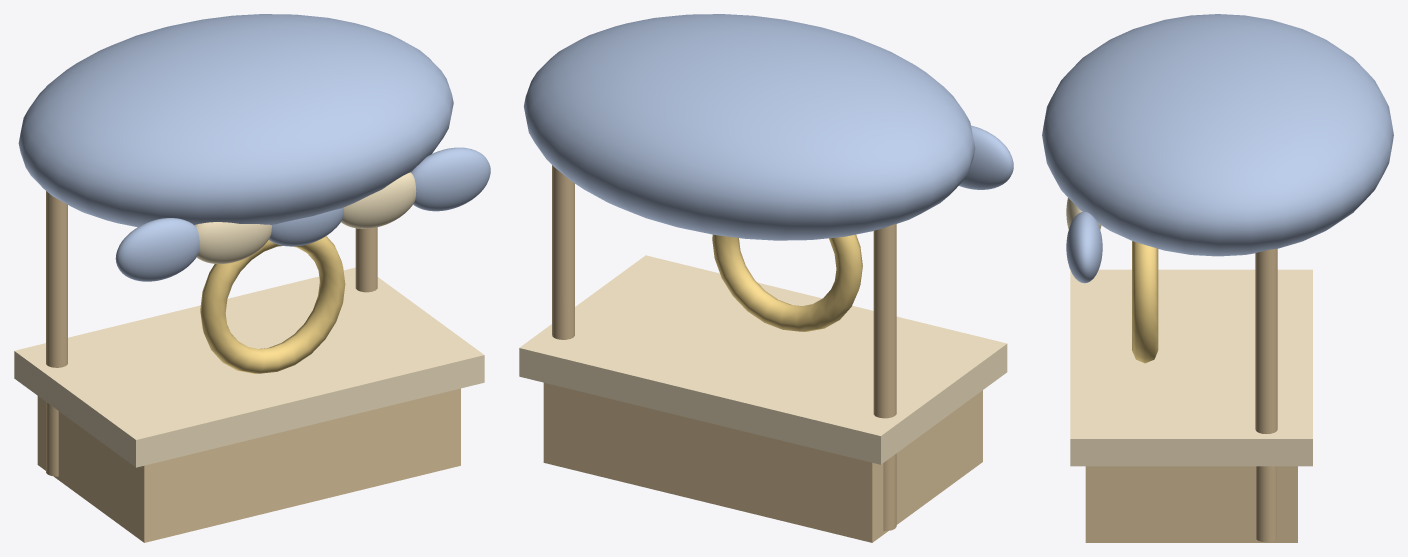
File: fair-cloud-hop.glb
The picture shows the model from 3 angles, left to right: view 1: azimuth 30°, elevation 25°; view 2: azimuth 150°, elevation 25°; view 3: azimuth 270°, elevation 25°; orthographic projection. The views are drawn at different scales.
Parts seen in each view (by area): view 1: fair-cloud-hop; view 2: fair-cloud-hop; view 3: fair-cloud-hop.
Part boxes in pixels (bbox=[...]): fair-cloud-hop: bbox=[14, 14, 490, 542]; fair-cloud-hop: bbox=[519, 14, 1013, 542]; fair-cloud-hop: bbox=[1042, 14, 1393, 542].
Bounding box in the file's own units: 2.26 × 2.21 × 1.74.
